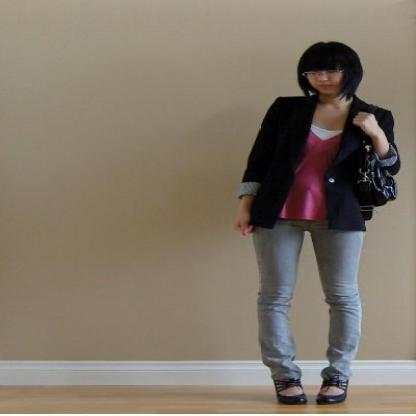bag: (324, 142, 400, 210)
jacket: (237, 94, 393, 232)
pants: (249, 208, 367, 383)
shirt: (279, 124, 340, 219)
shoe: (274, 368, 350, 408)
